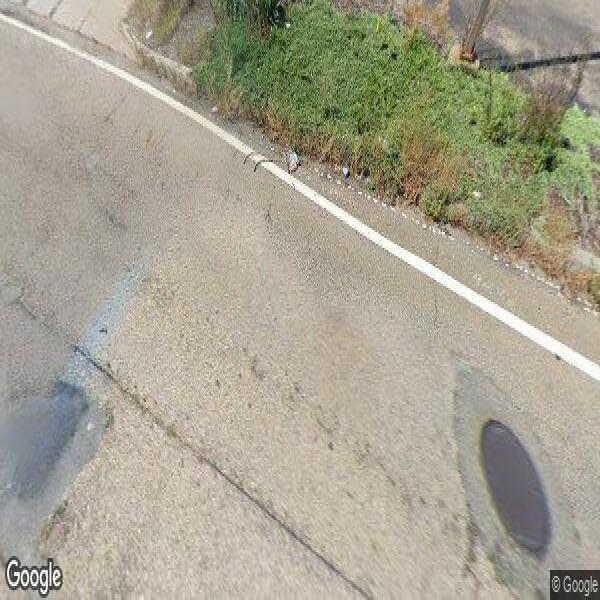manhole: (471, 412, 558, 574)
